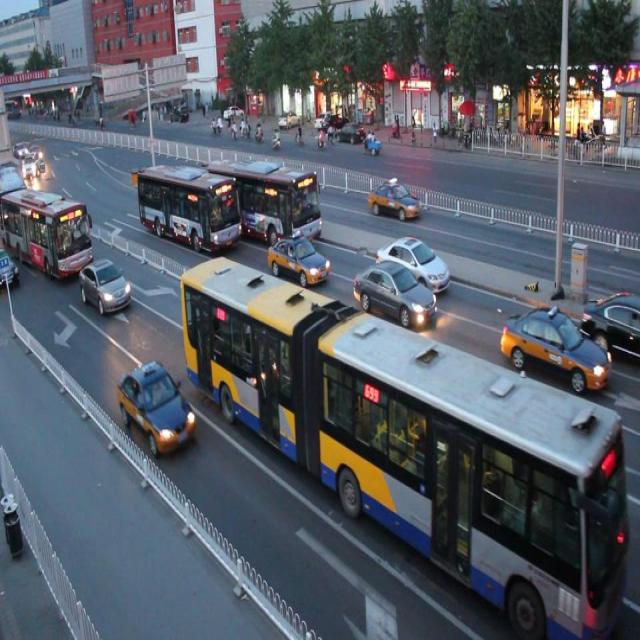car: (499, 304, 610, 394), (115, 359, 195, 455), (352, 256, 438, 331), (376, 231, 449, 296), (580, 289, 640, 358), (267, 232, 329, 288), (79, 255, 132, 317), (366, 174, 420, 225), (167, 163, 200, 198)
van: (178, 256, 624, 634), (205, 155, 322, 248), (137, 163, 242, 254), (1, 186, 94, 280)
